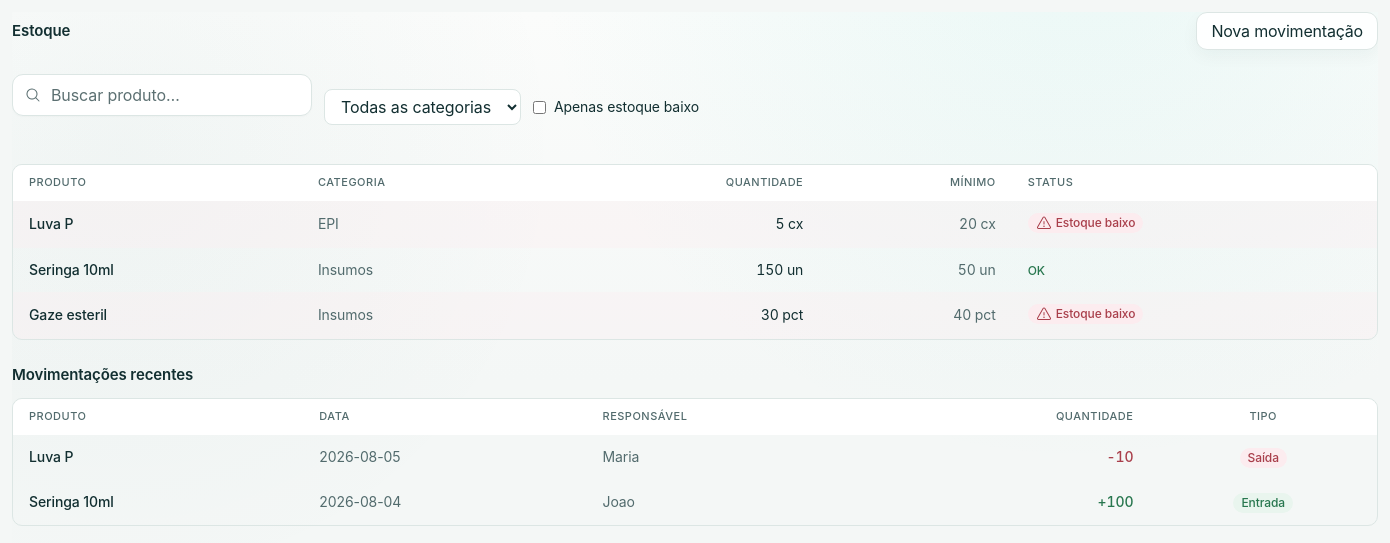
FinanceiroEstoque › filtra ao digitar na busca
The width and height of the screenshot is (1390, 543).
Type "Seringa" into the field labelled "Buscar produto".
click(175, 95); type("Seringa")  # box [51,75,299,115]
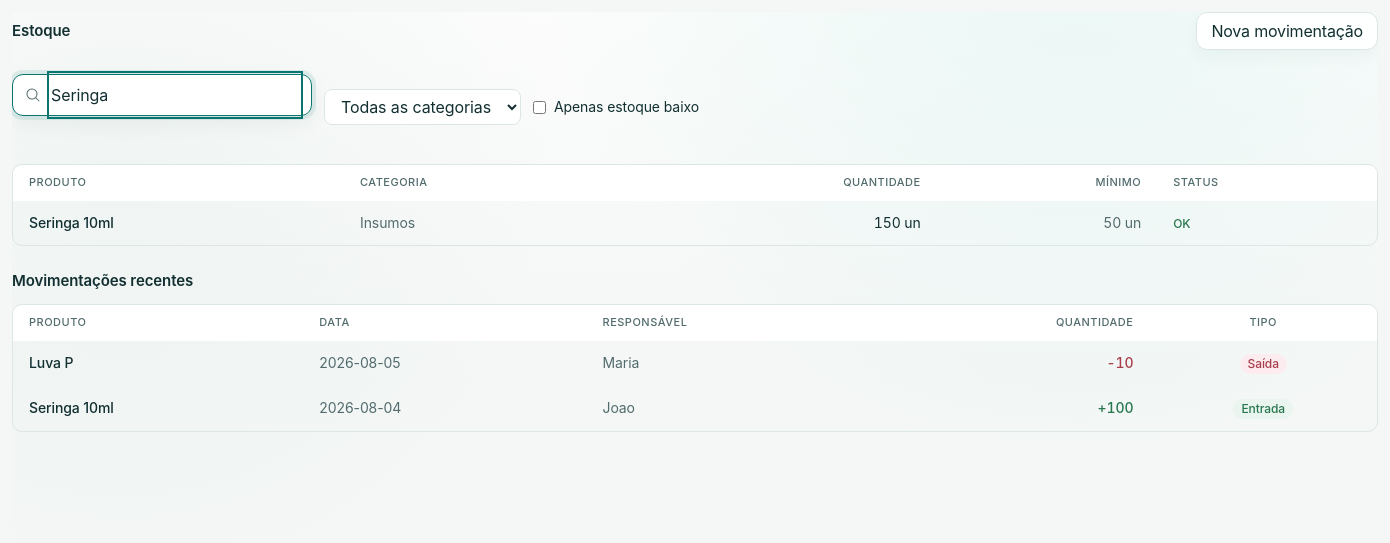
Expected: the text "Seringa 10ml" next to "Insumos" is shown, [29,214,114,231]
Expected: the text "Gaze esteril" is gone
